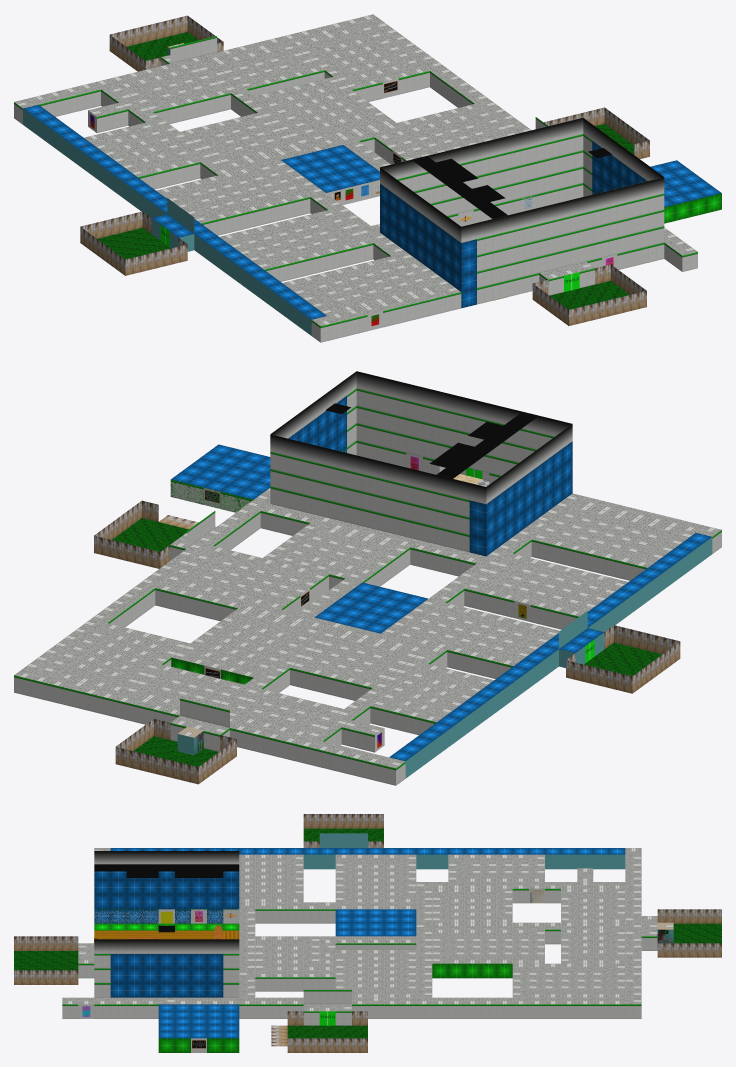
File: baldi_map.glb
3 renders of one model, top to bottom at view 1: azimuth 30°, elevation 25°; view 2: azimuth 150°, elevation 25°; view 3: azimuth 270°, elevation 25°, orthographic. The views are drawn at different scales.
Bounding box in the file's own units: 330 × 50.5 × 440.
71 materials, 66 textured.
